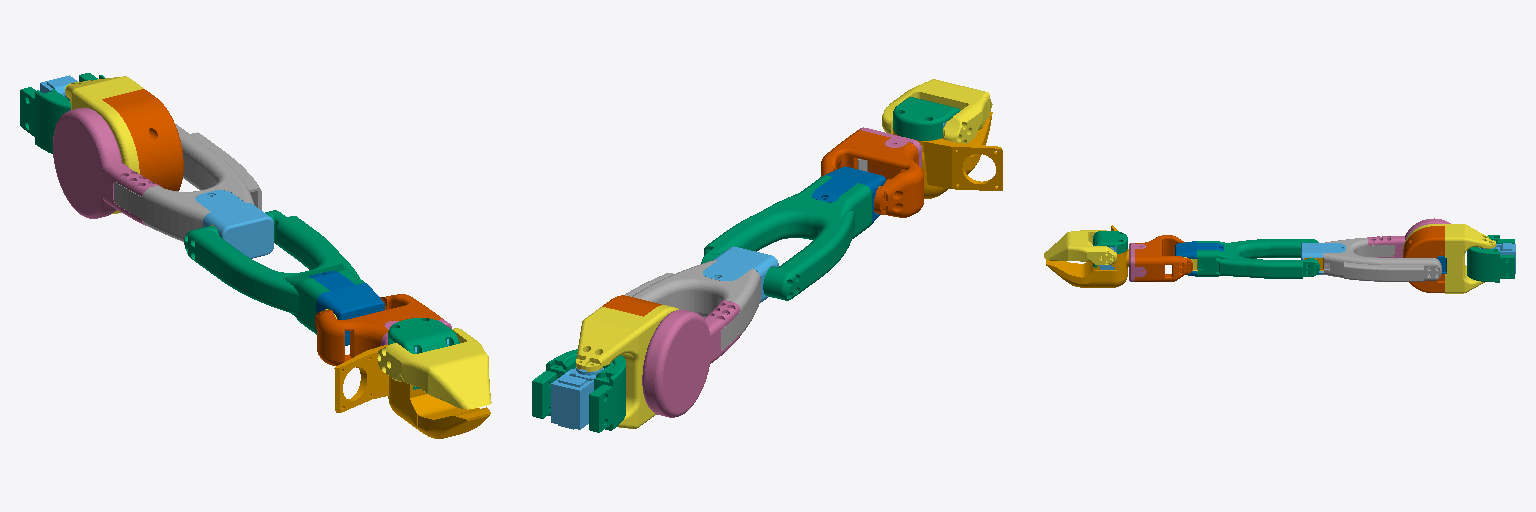
The robot description file, URDF, robot "ArmRight":
<?xml version='1.0' encoding='utf-8'?>
<robot name="ArmRight">
    <link name="base_link">
        <inertial>
            <origin xyz="-0.19248471691574282 -0.29141832402121326 -0.09770222599857002" rpy="0 0 0" />
            <mass value="0.3506312605592578" />
            <inertia ixx="0.000118" iyy="0.000202" izz="0.000129" ixy="-0.0" iyz="-0.0" ixz="0.0" />
        </inertial>
        <visual>
            <origin xyz="0 0 0" rpy="0 0 0" />
            <geometry>
                <mesh filename="meshes/base_link.stl" scale="0.001 0.001 0.001" />
            </geometry>
        </visual>
        <collision>
            <origin xyz="0 0 0" rpy="0 0 0" />
            <geometry>
                <mesh filename="meshes/base_link.stl" scale="0.001 0.001 0.001" />
            </geometry>
        </collision>
    </link>
    <link name="Feetech_Servo_Motor_v1_7">
        <inertial>
            <origin xyz="2.8310976424306133e-07 -0.022282684153305365 -0.0005074074272625739" rpy="0 0 0" />
            <mass value="0.2767788222767674" />
            <inertia ixx="7.1e-05" iyy="3.8e-05" izz="6e-05" ixy="-0.0" iyz="-0.0" ixz="0.0" />
        </inertial>
        <visual>
            <origin xyz="0.192485 0.289479 0.096494" rpy="0 0 0" />
            <geometry>
                <mesh filename="meshes/Feetech_Servo_Motor_v1_7.stl" scale="0.001 0.001 0.001" />
            </geometry>
        </visual>
        <collision>
            <origin xyz="0.192485 0.289479 0.096494" rpy="0 0 0" />
            <geometry>
                <mesh filename="meshes/Feetech_Servo_Motor_v1_7.stl" scale="0.001 0.001 0.001" />
            </geometry>
        </collision>
    </link>
    <link name="Motor_1_Support_v1_2">
        <inertial>
            <origin xyz="2.5729671535024146e-07 -0.027147999267722267 -0.010172661904638364" rpy="0 0 0" />
            <mass value="0.5154843809667771" />
            <inertia ixx="0.000199" iyy="0.000234" izz="0.000299" ixy="0.0" iyz="1e-06" ixz="-0.0" />
        </inertial>
        <visual>
            <origin xyz="0.192485 0.299479 0.086994" rpy="0 0 0" />
            <geometry>
                <mesh filename="meshes/Motor_1_Support_v1_2.stl" scale="0.001 0.001 0.001" />
            </geometry>
        </visual>
        <collision>
            <origin xyz="0.192485 0.299479 0.086994" rpy="0 0 0" />
            <geometry>
                <mesh filename="meshes/Motor_1_Support_v1_2.stl" scale="0.001 0.001 0.001" />
            </geometry>
        </collision>
    </link>
    <link name="Arm-Base-Shoulder">
        <inertial>
            <origin xyz="-0.003472042205202419 -0.04344619966861263 7.0446715052380204e-06" rpy="0 0 0" />
            <mass value="0.911762037293899" />
            <inertia ixx="0.001085" iyy="0.000805" izz="0.000631" ixy="-0.000109" iyz="0.0" ixz="-0.0" />
        </inertial>
        <visual>
            <origin xyz="0.192485 0.324479 0.096869" rpy="0 0 0" />
            <geometry>
                <mesh filename="meshes/Shoulder_v1_2.stl" scale="0.001 0.001 0.001" />
            </geometry>
        </visual>
        <collision>
            <origin xyz="0.192485 0.324479 0.096869" rpy="0 0 0" />
            <geometry>
                <mesh filename="meshes/Shoulder_v1_2.stl" scale="0.001 0.001 0.001" />
            </geometry>
        </collision>
    </link>
    <link name="Feetech_Servo_Motor_v1_8">
        <inertial>
            <origin xyz="-0.0005077969589699916 -0.02228268415330531 -1.0596647387339786e-07" rpy="0 0 0" />
            <mass value="0.2767788222767674" />
            <inertia ixx="6e-05" iyy="3.8e-05" izz="7.1e-05" ixy="-0.0" iyz="0.0" ixz="-0.0" />
        </inertial>
        <visual>
            <origin xyz="0.187077 0.359479 0.096869" rpy="0 0 0" />
            <geometry>
                <mesh filename="meshes/Feetech_Servo_Motor_v1_8.stl" scale="0.001 0.001 0.001" />
            </geometry>
        </visual>
        <collision>
            <origin xyz="0.187077 0.359479 0.096869" rpy="0 0 0" />
            <geometry>
                <mesh filename="meshes/Feetech_Servo_Motor_v1_8.stl" scale="0.001 0.001 0.001" />
            </geometry>
        </collision>
    </link>
    <link name="Motor_2_Support_v1_2">
        <inertial>
            <origin xyz="0.0017119298421359452 -0.026377396640282214 -0.02637510596667586" rpy="0 0 0" />
            <mass value="0.8521723955554203" />
            <inertia ixx="0.000613" iyy="0.000535" izz="0.000279" ixy="2e-06" iyz="0.0" ixz="0.0" />
        </inertial>
        <visual>
            <origin xyz="0.18936 0.379479 0.070494" rpy="0 0 0" />
            <geometry>
                <mesh filename="meshes/Motor_2_Support_v1_2.stl" scale="0.001 0.001 0.001" />
            </geometry>
        </visual>
        <collision>
            <origin xyz="0.18936 0.379479 0.070494" rpy="0 0 0" />
            <geometry>
                <mesh filename="meshes/Motor_2_Support_v1_2.stl" scale="0.001 0.001 0.001" />
            </geometry>
        </collision>
    </link>
    <link name="Arm-Bicep">
        <inertial>
            <origin xyz="-0.410870 -0.013002 -0.000094" rpy="0 0 0" />
            <mass value="0.384856570856009" />
            <inertia ixx="0.000525" iyy="0.000162" izz="0.000381" ixy="1.5e-05" iyz="-2e-06" ixz="0.0" />
        </inertial>
        <visual>
            <origin xyz="-0.183354 0.394479 0.096869" rpy="0 0 0" />
            <geometry>
                <mesh filename="meshes/Bicep_Left_v1_2.stl" scale="0.001 0.001 0.001" />
            </geometry>
        </visual>
        <collision>
            <origin xyz="-0.183354 0.394479 0.096869" rpy="0 0 0" />
            <geometry>
                <mesh filename="meshes/Bicep_Left_v1_2.stl" scale="0.001 0.001 0.001" />
            </geometry>
        </collision>
    </link>
    <link name="Bicep_Right_v1_2">
        <inertial>
            <origin xyz="0.04020242755740533 -0.021684893082597634 -1.2121703832357333e-07" rpy="0 0 0" />
            <mass value="0.9814153770935814" />
            <inertia ixx="0.00147" iyy="0.000738" izz="0.002084" ixy="-0.000465" iyz="0.0" ixz="0.0" />
        </inertial>
        <visual>
            <origin xyz="0.220762 0.451964 0.096869" rpy="0 0 0" />
            <geometry>
                <mesh filename="meshes/Bicep_Right_v1_2.stl" scale="0.001 0.001 0.001" />
            </geometry>
        </visual>
        <collision>
            <origin xyz="0.220762 0.451964 0.096869" rpy="0 0 0" />
            <geometry>
                <mesh filename="meshes/Bicep_Right_v1_2.stl" scale="0.001 0.001 0.001" />
            </geometry>
        </collision>
    </link>
    <link name="Feetech_Servo_Motor_v1_9">
        <inertial>
            <origin xyz="-0.0005070183508200654 -0.022282684153305476 -1.0596667480988753e-07" rpy="0 0 0" />
            <mass value="0.2767788222767674" />
            <inertia ixx="6e-05" iyy="3.8e-05" izz="7.1e-05" ixy="-0.0" iyz="0.0" ixz="-0.0" />
        </inertial>
        <visual>
            <origin xyz="0.19196 0.516589 0.096869" rpy="0 0 0" />
            <geometry>
                <mesh filename="meshes/Feetech_Servo_Motor_v1_9.stl" scale="0.001 0.001 0.001" />
            </geometry>
        </visual>
        <collision>
            <origin xyz="0.19196 0.516589 0.096869" rpy="0 0 0" />
            <geometry>
                <mesh filename="meshes/Feetech_Servo_Motor_v1_9.stl" scale="0.001 0.001 0.001" />
            </geometry>
        </collision>
    </link>
    <link name="Motor_3_support_v1_2">
        <inertial>
            <origin xyz="-0.00048660121433974357 -0.031517480866933845 -1.0322295290743355e-07" rpy="0 0 0" />
            <mass value="0.09403496202052875" />
            <inertia ixx="4.2e-05" iyy="2.7e-05" izz="3.9e-05" ixy="-0.0" iyz="0.0" ixz="0.0" />
        </inertial>
        <visual>
            <origin xyz="0.192525 0.511589 0.096869" rpy="0 0 0" />
            <geometry>
                <mesh filename="meshes/Motor_3_support_v1_2.stl" scale="0.001 0.001 0.001" />
            </geometry>
        </visual>
        <collision>
            <origin xyz="0.192525 0.511589 0.096869" rpy="0 0 0" />
            <geometry>
                <mesh filename="meshes/Motor_3_support_v1_2.stl" scale="0.001 0.001 0.001" />
            </geometry>
        </collision>
    </link>
    <link name="Arm-Forearm">
        <inertial>
            <origin xyz="-0.003334438763859693 -0.07420141072961195 -2.029511714241039e-07" rpy="0 0 0" />
            <mass value="0.9856190031425273" />
            <inertia ixx="0.001784" iyy="0.000633" izz="0.002315" ixy="0.00011" iyz="0.0" ixz="0.0" />
        </inertial>
        <visual>
            <origin xyz="0.192335 0.551589 0.096869" rpy="0 0 0" />
            <geometry>
                <mesh filename="meshes/Forearm_v1_2.stl" scale="0.001 0.001 0.001" />
            </geometry>
        </visual>
        <collision>
            <origin xyz="0.192335 0.551589 0.096869" rpy="0 0 0" />
            <geometry>
                <mesh filename="meshes/Forearm_v1_2.stl" scale="0.001 0.001 0.001" />
            </geometry>
        </collision>
    </link>
    <link name="Feetech_Servo_Motor_v1_10">
        <inertial>
            <origin xyz="-0.0005070183508201209 -0.022282684153305476 -1.0596667519846559e-07" rpy="0 0 0" />
            <mass value="0.2767788222767674" />
            <inertia ixx="6e-05" iyy="3.8e-05" izz="7.1e-05" ixy="-0.0" iyz="0.0" ixz="-0.0" />
        </inertial>
        <visual>
            <origin xyz="0.192335 0.678064 0.096869" rpy="0 0 0" />
            <geometry>
                <mesh filename="meshes/Feetech_Servo_Motor_v1_10.stl" scale="0.001 0.001 0.001" />
            </geometry>
        </visual>
        <collision>
            <origin xyz="0.192335 0.678064 0.096869" rpy="0 0 0" />
            <geometry>
                <mesh filename="meshes/Feetech_Servo_Motor_v1_10.stl" scale="0.001 0.001 0.001" />
            </geometry>
        </collision>
    </link>
    <link name="Motor_4_support_v1_2">
        <inertial>
            <origin xyz="-0.020299027767877648 -0.001288748648362259 0.015620893983945491" rpy="0 0 0" />
            <mass value="0.1264851249695149" />
            <inertia ixx="6.1e-05" iyy="3.7e-05" izz="5e-05" ixy="-0.0" iyz="-0.0" ixz="-0.0" />
        </inertial>
        <visual>
            <origin xyz="0.172239 0.698064 0.11249" rpy="0 0 0" />
            <geometry>
                <mesh filename="meshes/Motor_4_support_v1_2.stl" scale="0.001 0.001 0.001" />
            </geometry>
        </visual>
        <collision>
            <origin xyz="0.172239 0.698064 0.11249" rpy="0 0 0" />
            <geometry>
                <mesh filename="meshes/Motor_4_support_v1_2.stl" scale="0.001 0.001 0.001" />
            </geometry>
        </collision>
    </link>
    <link name="Arm-Wrist">
        <inertial>
            <origin xyz="0.0017209305660532137 -0.032547878923247064 -3.331904756544157e-05" rpy="0 0 0" />
            <mass value="0.4627755669624243" />
            <inertia ixx="0.000192" iyy="0.000364" izz="0.000447" ixy="3.5e-05" iyz="-0.0" ixz="-0.0" />
        </inertial>
        <visual>
            <origin xyz="0.19271 0.713064 0.096869" rpy="0 0 0" />
            <geometry>
                <mesh filename="meshes/Wrist_v1_2.stl" scale="0.001 0.001 0.001" />
            </geometry>
        </visual>
        <collision>
            <origin xyz="0.19271 0.713064 0.096869" rpy="0 0 0" />
            <geometry>
                <mesh filename="meshes/Wrist_v1_2.stl" scale="0.001 0.001 0.001" />
            </geometry>
        </collision>
    </link>
    <link name="Motor_5_support_v1_2">
        <inertial>
            <origin xyz="0.013817297209001322 -0.008908345919801608 -7.819774358597265e-08" rpy="0 0 0" />
            <mass value="0.05323376193500332" />
            <inertia ixx="1e-05" iyy="2.5e-05" izz="1.7e-05" ixy="0.0" iyz="-0.0" ixz="-0.0" />
        </inertial>
        <visual>
            <origin xyz="0.192066 0.770564 0.096869" rpy="0 0 0" />
            <geometry>
                <mesh filename="meshes/Motor_5_support_v1_2.stl" scale="0.001 0.001 0.001" />
            </geometry>
        </visual>
        <collision>
            <origin xyz="0.192066 0.770564 0.096869" rpy="0 0 0" />
            <geometry>
                <mesh filename="meshes/Motor_5_support_v1_2.stl" scale="0.001 0.001 0.001" />
            </geometry>
        </collision>
    </link>
    <link name="Feetech_Servo_Motor_v1_11">
        <inertial>
            <origin xyz="0.00021742181337319755 -0.00013212431750175835 -1.0596667722462261e-07" rpy="0 0 0" />
            <mass value="0.2767788222767674" />
            <inertia ixx="3.8e-05" iyy="6e-05" izz="7.1e-05" ixy="-0.0" iyz="0.0" ixz="-0.0" />
        </inertial>
        <visual>
            <origin xyz="0.18151 0.765564 0.096869" rpy="0 0 0" />
            <geometry>
                <mesh filename="meshes/Feetech_Servo_Motor_v1_11.stl" scale="0.001 0.001 0.001" />
            </geometry>
        </visual>
        <collision>
            <origin xyz="0.18151 0.765564 0.096869" rpy="0 0 0" />
            <geometry>
                <mesh filename="meshes/Feetech_Servo_Motor_v1_11.stl" scale="0.001 0.001 0.001" />
            </geometry>
        </collision>
    </link>
    <link name="Gripper-Base">
        <inertial>
            <origin xyz="0.03150018529909687 -0.04017484022432771 -0.01762146759166812" rpy="0 0 0" />
            <mass value="1.3881215297523442" />
            <inertia ixx="0.001203" iyy="0.002224" izz="0.002985" ixy="0.0" iyz="-0.000151" ixz="-0.0" />
        </inertial>
        <visual>
            <origin xyz="0.19401 0.783314 0.096869" rpy="0 0 0" />
            <geometry>
                <mesh filename="meshes/Gripper_Base_v1_2.stl" scale="0.001 0.001 0.001" />
            </geometry>
        </visual>
        <collision>
            <origin xyz="0.19401 0.783314 0.096869" rpy="0 0 0" />
            <geometry>
                <mesh filename="meshes/Gripper_Base_v1_2.stl" scale="0.001 0.001 0.001" />
            </geometry>
        </collision>
    </link>
    <link name="Feetech_Servo_Motor_v1_12">
        <inertial>
            <origin xyz="0.000507584570349523 1.7714308264693557e-07 0.02228275532971377" rpy="0 0 0" />
            <mass value="0.2767788222767674" />
            <inertia ixx="6e-05" iyy="7.1e-05" izz="3.8e-05" ixy="-0.0" iyz="0.0" ixz="-0.0" />
        </inertial>
        <visual>
            <origin xyz="0.19401 0.813689 0.116869" rpy="0 0 0" />
            <geometry>
                <mesh filename="meshes/Feetech_Servo_Motor_v1_12.stl" scale="0.001 0.001 0.001" />
            </geometry>
        </visual>
        <collision>
            <origin xyz="0.19401 0.813689 0.116869" rpy="0 0 0" />
            <geometry>
                <mesh filename="meshes/Feetech_Servo_Motor_v1_12.stl" scale="0.001 0.001 0.001" />
            </geometry>
        </collision>
    </link>
    <link name="Motor_6_cap_v1_2">
        <inertial>
            <origin xyz="-0.018499709364039135 -0.016887666150260827 0.0032525417406211315" rpy="0 0 0" />
            <mass value="0.2526354590550531" />
            <inertia ixx="8.7e-05" iyy="0.000295" izz="0.000328" ixy="-0.0" iyz="-2.2e-05" ixz="-0.0" />
        </inertial>
        <visual>
            <origin xyz="0.20601 0.796314 0.081869" rpy="0 0 0" />
            <geometry>
                <mesh filename="meshes/Motor_6_cap_v1_2.stl" scale="0.001 0.001 0.001" />
            </geometry>
        </visual>
        <collision>
            <origin xyz="0.20601 0.796314 0.081869" rpy="0 0 0" />
            <geometry>
                <mesh filename="meshes/Motor_6_cap_v1_2.stl" scale="0.001 0.001 0.001" />
            </geometry>
        </collision>
    </link>
    <link name="Gripper-Finger">
        <inertial>
            <origin xyz="1.0204666106850002e-06 -0.033518559514881474 0.000763435603069601" rpy="0 0 0" />
            <mass value="0.4446000087025716" />
            <inertia ixx="0.000203" iyy="0.000172" izz="0.000342" ixy="-0.0" iyz="-5e-06" ixz="0.0" />
        </inertial>
        <visual>
            <origin xyz="0.193635 0.813689 0.081869" rpy="0 0 0" />
            <geometry>
                <mesh filename="meshes/Gripper_Finger_v1_2.stl" scale="0.001 0.001 0.001" />
            </geometry>
        </visual>
        <collision>
            <origin xyz="0.193635 0.813689 0.081869" rpy="0 0 0" />
            <geometry>
                <mesh filename="meshes/Gripper_Finger_v1_2.stl" scale="0.001 0.001 0.001" />
            </geometry>
        </collision>
    </link>
    <joint name="Rigid_121" type="fixed">
        <origin xyz="-0.192485 -0.289479 -0.096494" rpy="0 0 0" />
        <parent link="base_link" />
        <child link="Feetech_Servo_Motor_v1_7" />
    </joint>
    <joint name="Rigid_122" type="fixed">
        <origin xyz="-0.192485 -0.299479 -0.086994" rpy="0 0 0" />
        <parent link="base_link" />
        <child link="Motor_1_Support_v1_2" />
    </joint>
    <joint name="shoulder_pan" type="revolute">
        <origin xyz="0.0 -0.035 -0.000375" rpy="0 0 0" />
        <parent link="Feetech_Servo_Motor_v1_7" />
        <child link="Arm-Base-Shoulder" />
        <axis xyz="0.0 -0.0 -1.0" />
        <limit upper="1.570796" lower="-1.570796" effort="1000000" velocity="1000000" />
    </joint>
    <joint name="Rigid_124" type="fixed">
        <origin xyz="0.005408 -0.035 0.0" rpy="0 0 0" />
        <parent link="Arm-Base-Shoulder" />
        <child link="Feetech_Servo_Motor_v1_8" />
    </joint>
    <joint name="Rigid_125" type="fixed">
        <origin xyz="0.003125 -0.055 0.026375" rpy="0 0 0" />
        <parent link="Arm-Base-Shoulder" />
        <child link="Motor_2_Support_v1_2" />
    </joint>
    <joint name="shoulder_lift" type="revolute">
        <origin xyz="0.375839 -0.070000 -0.000000" rpy="0 0 0" />
        <parent link="Arm-Base-Shoulder" />
        <child link="Arm-Bicep" />
        <axis xyz="1.0 -0.0 0.0" />
        <limit upper="1.570796" lower="-1.570796" effort="1000000" velocity="1000000" />
    </joint>
    <joint name="Rigid_126" type="fixed">
        <origin xyz="-0.404116 -0.057485 0.000000" rpy="0 0 0" />
        <parent link="Arm-Bicep" />
        <child link="Bicep_Right_v1_2" />
    </joint>
    <joint name="Rigid_128" type="fixed">
        <origin xyz="0.028802 -0.064625 0.0" rpy="0 0 0" />
        <parent link="Bicep_Right_v1_2" />
        <child link="Feetech_Servo_Motor_v1_9" />
    </joint>
    <joint name="Rigid_129" type="fixed">
        <origin xyz="0.028237 -0.059625 0.0" rpy="0 0 0" />
        <parent link="Bicep_Right_v1_2" />
        <child link="Motor_3_support_v1_2" />
    </joint>
    <joint name="elbow_flex" type="revolute">
        <origin xyz="-0.000375 -0.035 0.0" rpy="0 0 0" />
        <parent link="Feetech_Servo_Motor_v1_9" />
        <child link="Arm-Forearm" />
        <axis xyz="-1.0 0.0 -0.0" />
        <limit upper="1.570796" lower="-1.570796" effort="1000000" velocity="1000000" />
    </joint>
    <joint name="Rigid_131" type="fixed">
        <origin xyz="0.0 -0.126475 0.0" rpy="0 0 0" />
        <parent link="Arm-Forearm" />
        <child link="Feetech_Servo_Motor_v1_10" />
    </joint>
    <joint name="Rigid_132" type="fixed">
        <origin xyz="0.020096 -0.146475 -0.015621" rpy="0 0 0" />
        <parent link="Arm-Forearm" />
        <child link="Motor_4_support_v1_2" />
    </joint>
    <joint name="wrist_flex" type="revolute">
        <origin xyz="-0.000375 -0.035 0.0" rpy="0 0 0" />
        <parent link="Feetech_Servo_Motor_v1_10" />
        <child link="Arm-Wrist" />
        <axis xyz="-1.0 0.0 -0.0" />
        <limit upper="1.570796" lower="-1.570796" effort="1000000" velocity="1000000" />
    </joint>
    <joint name="Rigid_135" type="fixed">
        <origin xyz="0.000644 -0.0575 0.0" rpy="0 0 0" />
        <parent link="Arm-Wrist" />
        <child link="Motor_5_support_v1_2" />
    </joint>
    <joint name="auto_weld_1" type="fixed">
        <origin xyz="0.010556 0.005 0.0" rpy="0 0 0" />
        <parent link="Motor_5_support_v1_2" />
        <child link="Feetech_Servo_Motor_v1_11" />
    </joint>
    <joint name="wrist_roll" type="revolute">
        <origin xyz="-0.0125 -0.01775 0.0" rpy="0 0 0" />
        <parent link="Feetech_Servo_Motor_v1_11" />
        <child link="Gripper-Base" />
        <axis xyz="-0.0 -1.0 0.0" />
        <limit upper="3.141593" lower="-3.141593" effort="1000000" velocity="1000000" />
    </joint>
    <joint name="Rigid_137" type="fixed">
        <origin xyz="0.0 -0.030375 -0.02" rpy="0 0 0" />
        <parent link="Gripper-Base" />
        <child link="Feetech_Servo_Motor_v1_12" />
    </joint>
    <joint name="Rigid_138" type="fixed">
        <origin xyz="-0.012 -0.013 0.015" rpy="0 0 0" />
        <parent link="Gripper-Base" />
        <child link="Motor_6_cap_v1_2" />
    </joint>
    <joint name="gripper" type="revolute">
        <origin xyz="0.000375 0.0 0.035" rpy="0 0 0" />
        <parent link="Feetech_Servo_Motor_v1_12" />
        <child link="Gripper-Finger" />
        <axis xyz="-1.0 -0.0 -0.0" />
        <limit upper="1.570796" lower="-1.570796" effort="1000000" velocity="1000000" />
    </joint>
</robot>

--- Facts derived from the render (not from the file) ---
Views: 3 orthographic renders of the robot side by side, from view 1: azimuth 30°, elevation 25°; view 2: azimuth 150°, elevation 25°; view 3: azimuth 270°, elevation 25°.
Robot: ArmRight — 20 links, 19 joints (6 revolute, 13 fixed); root link base_link; default pose: all joints at 0.
Visible links, largest first — view 1: Arm-Forearm, Arm-Bicep, Bicep_Right_v1_2, Gripper-Finger, Gripper-Base, Motor_2_Support_v1_2, Arm-Wrist, Motor_3_support_v1_2, Arm-Base-Shoulder, Motor_4_support_v1_2, Motor_1_Support_v1_2, Motor_6_cap_v1_2; view 2: Arm-Forearm, Arm-Bicep, Arm-Base-Shoulder, Arm-Wrist, Bicep_Right_v1_2, Gripper-Base, Motor_1_Support_v1_2, Gripper-Finger, Feetech_Servo_Motor_v1_7, Motor_6_cap_v1_2, Motor_3_support_v1_2, Motor_4_support_v1_2 (+1 smaller); view 3: Arm-Forearm, Bicep_Right_v1_2, Arm-Base-Shoulder, Arm-Wrist, Gripper-Base, Gripper-Finger, Motor_1_Support_v1_2, Motor_2_Support_v1_2, Arm-Bicep, Motor_6_cap_v1_2, Motor_3_support_v1_2, Motor_4_support_v1_2.
Link boxes in pixels (x1,y1,x2,y2): Arm-Forearm: (184, 210, 366, 334); Arm-Bicep: (53, 108, 162, 225); Bicep_Right_v1_2: (114, 124, 261, 241); Gripper-Finger: (377, 328, 491, 409); Gripper-Base: (334, 344, 490, 438); Motor_2_Support_v1_2: (102, 89, 183, 190); Arm-Wrist: (315, 294, 443, 367); Motor_3_support_v1_2: (195, 190, 273, 258); Arm-Base-Shoulder: (65, 76, 143, 213); Motor_4_support_v1_2: (309, 271, 384, 345); Motor_1_Support_v1_2: (20, 73, 104, 153); Motor_6_cap_v1_2: (388, 318, 459, 393); Arm-Forearm: (701, 175, 871, 300); Arm-Bicep: (642, 300, 739, 417); Arm-Base-Shoulder: (576, 305, 678, 428); Arm-Wrist: (821, 130, 923, 217); Bicep_Right_v1_2: (625, 260, 760, 349); Gripper-Base: (893, 112, 1002, 198); Motor_1_Support_v1_2: (532, 349, 625, 432); Gripper-Finger: (882, 79, 992, 143); Feetech_Servo_Motor_v1_7: (551, 367, 603, 429); Motor_6_cap_v1_2: (893, 97, 960, 140); Motor_3_support_v1_2: (703, 246, 778, 302); Motor_4_support_v1_2: (812, 166, 885, 224); Arm-Forearm: (1197, 239, 1319, 278); Bicep_Right_v1_2: (1323, 237, 1441, 281); Arm-Base-Shoulder: (1403, 224, 1495, 293); Arm-Wrist: (1135, 235, 1192, 281); Gripper-Base: (1046, 225, 1128, 287); Gripper-Finger: (1044, 230, 1116, 264); Motor_1_Support_v1_2: (1467, 235, 1514, 282); Motor_2_Support_v1_2: (1403, 226, 1444, 292); Arm-Bicep: (1368, 218, 1450, 257); Motor_6_cap_v1_2: (1093, 231, 1127, 267); Motor_3_support_v1_2: (1301, 243, 1345, 274); Motor_4_support_v1_2: (1175, 241, 1223, 276).
Bounding box of the posed robot: 0.1211 × 0.6046 × 0.079 m (x, y, z).
Meshes: 20 distinct files referenced, 19 mesh visuals loaded (19 binary STL); not drawn: 1 (reference not matched to a file when rendering).
